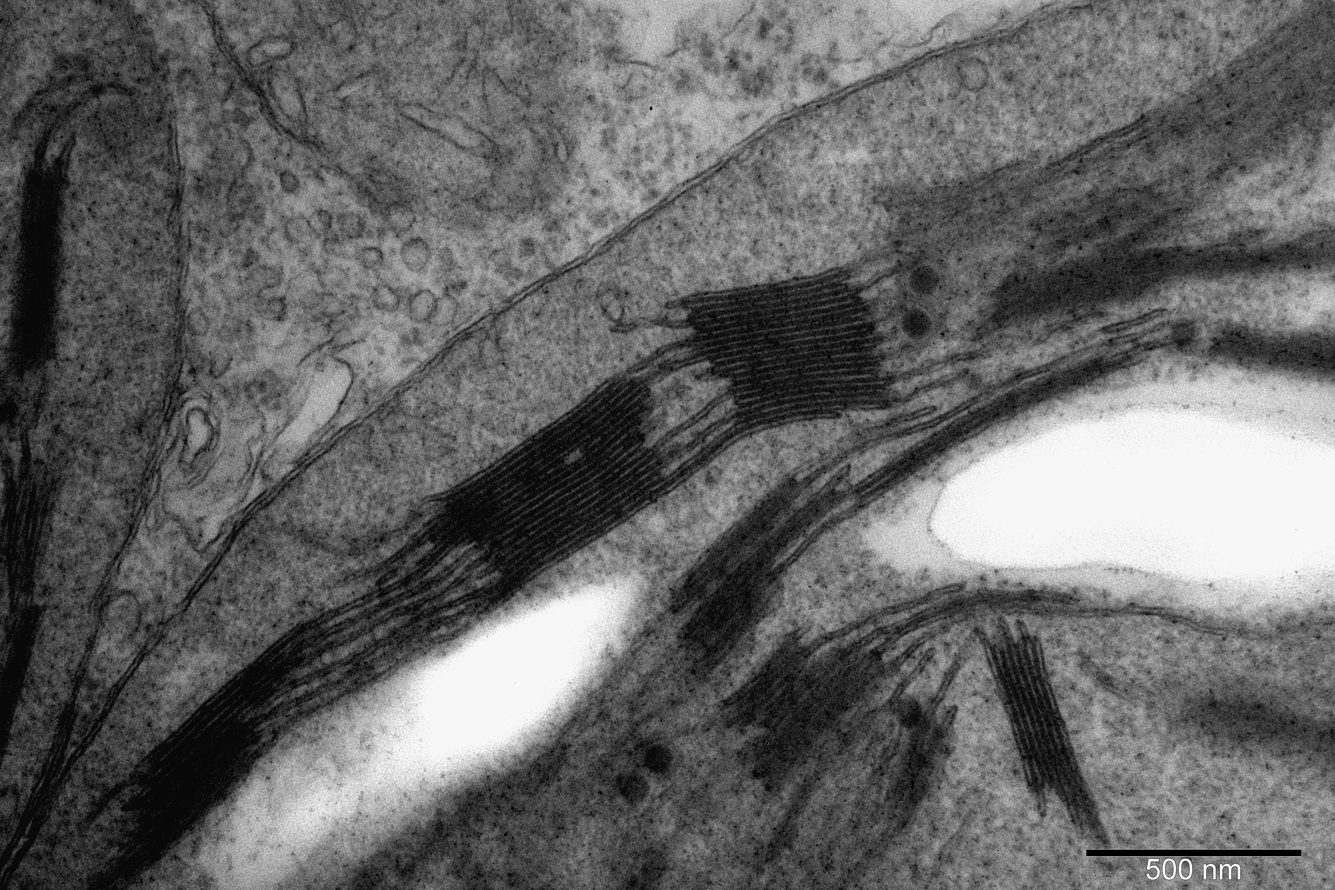granum: (89, 619, 333, 890), (419, 375, 673, 620), (854, 349, 1140, 512), (982, 225, 1335, 332), (683, 263, 890, 440), (677, 483, 848, 680), (1139, 0, 1334, 168), (717, 638, 895, 793), (874, 148, 1062, 270), (986, 635, 1102, 829), (668, 472, 804, 617), (7, 164, 69, 373), (1175, 693, 1335, 770), (0, 458, 65, 598), (14, 708, 79, 842), (881, 719, 956, 824), (1210, 322, 1335, 382), (0, 605, 48, 744)
